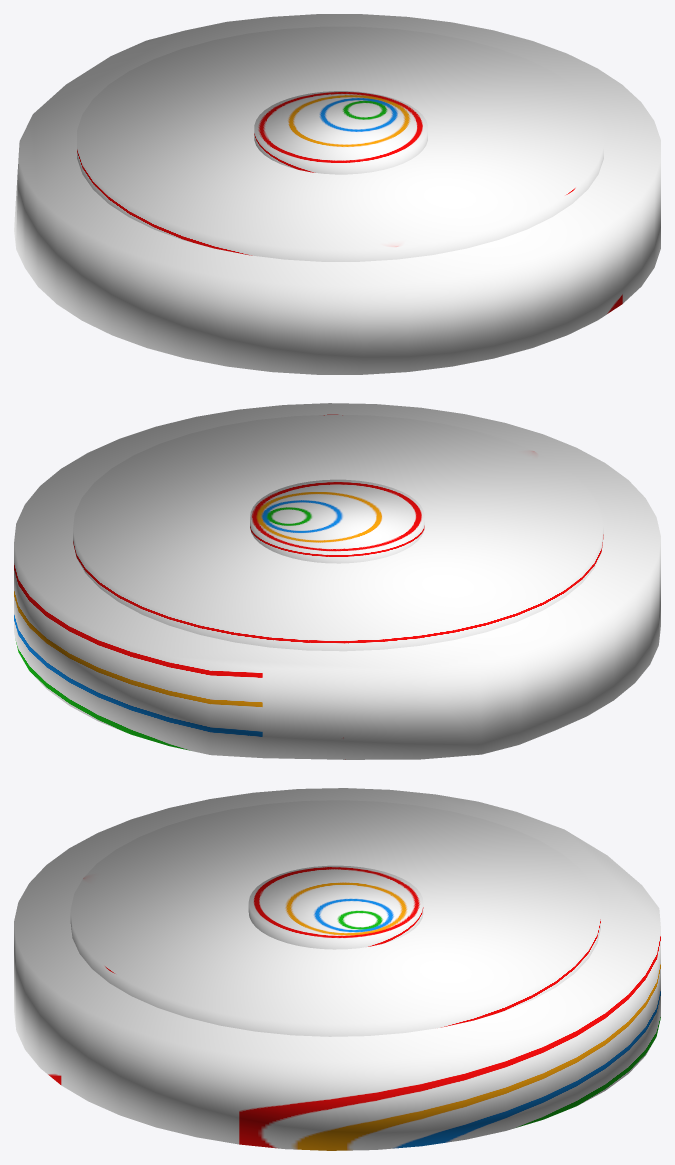
Rendered from aspiradorajderobot.gltf.
The picture shows the model from 3 angles, top to bottom: view 1: azimuth 30°, elevation 25°; view 2: azimuth 150°, elevation 25°; view 3: azimuth 270°, elevation 25°; orthographic projection.
Parts seen in each view (by area): view 1: Cylinder; view 2: Cylinder; view 3: Cylinder.
Part boxes in pixels (<box>): Cylinder: <box>14,14,660,374</box>; Cylinder: <box>14,403,660,759</box>; Cylinder: <box>14,788,660,1150</box>.
Size of the model in its own units: 2 by 0.52 by 2.
3 materials, 1 textured.
